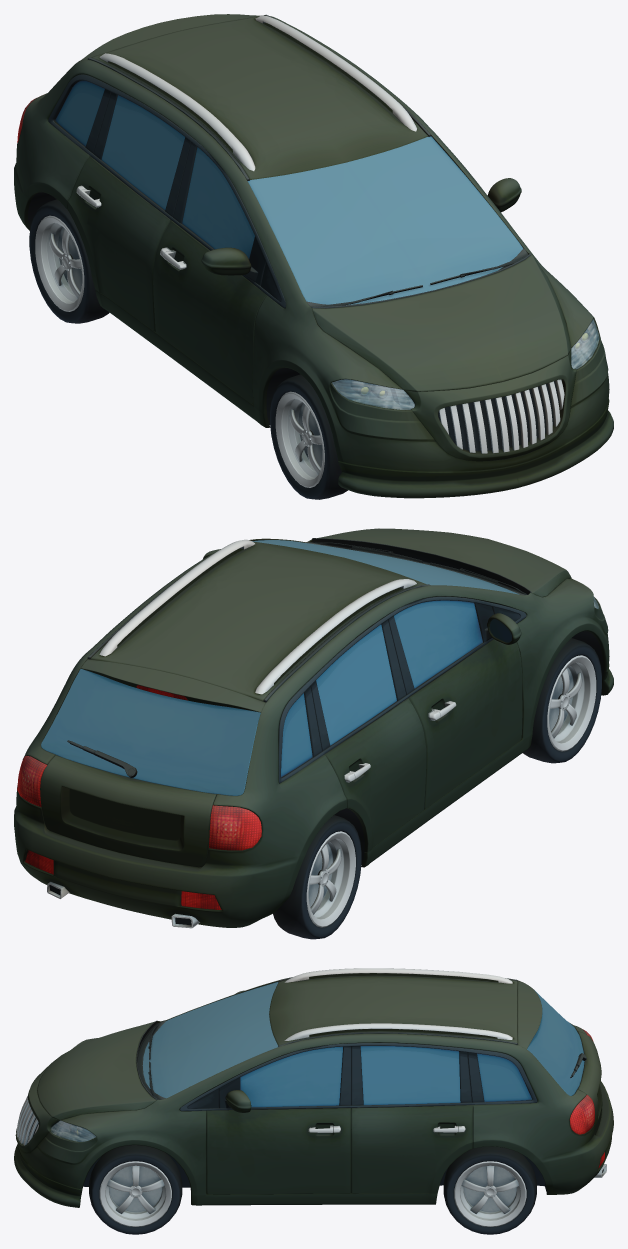
Rendered from SUV.glb.
3 views of the same model, one above another, from view 1: azimuth 30°, elevation 25°; view 2: azimuth 150°, elevation 25°; view 3: azimuth 270°, elevation 25° (orthographic). The views are drawn at different scales.
Visible parts, largest first — view 1: suv.2, suv_glass.3; view 2: suv.2; view 3: suv.2, suv_glass.3.
Boxes of the visible parts, bbox=[...] form: suv.2: bbox=[14, 14, 613, 499]; suv_glass.3: bbox=[332, 319, 599, 409]; suv.2: bbox=[14, 528, 613, 939]; suv.2: bbox=[14, 968, 613, 1234]; suv_glass.3: bbox=[51, 1120, 95, 1141].
Size of the model in its own units: 1.42 by 1.12 by 3.18.
Materials: 2 (2 with a texture image).
